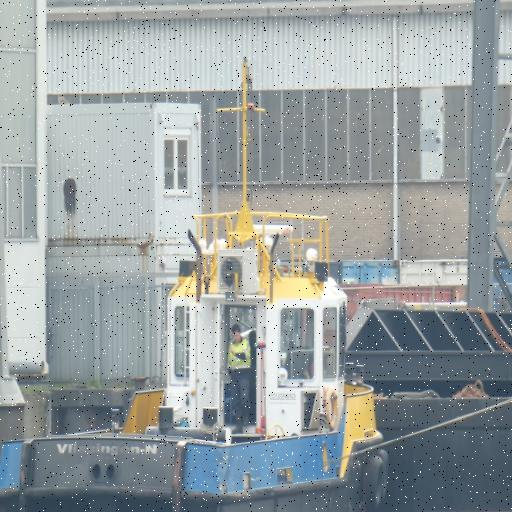tugboat: (1, 207, 392, 512)
